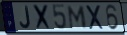5: (52, 3, 68, 32)
6: (105, 4, 120, 32)
J: (19, 5, 32, 30)
M: (67, 6, 88, 31)
X: (33, 4, 53, 32), (85, 5, 106, 31)
